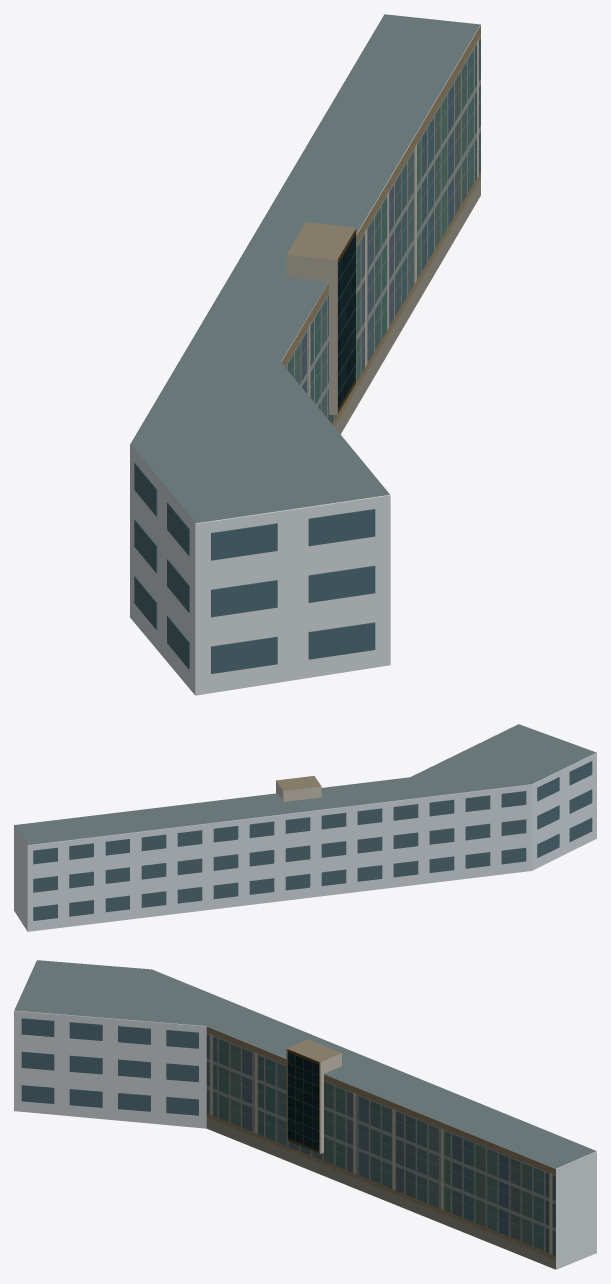
File: intact.glb
3 renders of one model, top to bottom at view 1: azimuth 30°, elevation 25°; view 2: azimuth 150°, elevation 25°; view 3: azimuth 270°, elevation 25°, orthographic. The views are drawn at different scales.
Parts seen in each view (by area): view 1: SM_lifelong_Intact_00, SM_lifelong_Intact_01; view 2: SM_lifelong_Intact_00, SM_lifelong_Intact_01; view 3: SM_lifelong_Intact_00, SM_lifelong_Intact_01.
Boxes of the visible parts, x1=… form: SM_lifelong_Intact_00: x1=130, y1=14, x2=480, y2=695; SM_lifelong_Intact_01: x1=134, y1=462, x2=375, y2=673; SM_lifelong_Intact_00: x1=14, y1=724, x2=596, y2=931; SM_lifelong_Intact_01: x1=33, y1=761, x2=592, y2=920; SM_lifelong_Intact_00: x1=14, y1=960, x2=596, y2=1269; SM_lifelong_Intact_01: x1=21, y1=1018, x2=198, y2=1115.
Bounding box in the file's own units: 1.87 × 0.4812 × 2.2.
Materials: 7 (2 with a texture image).
